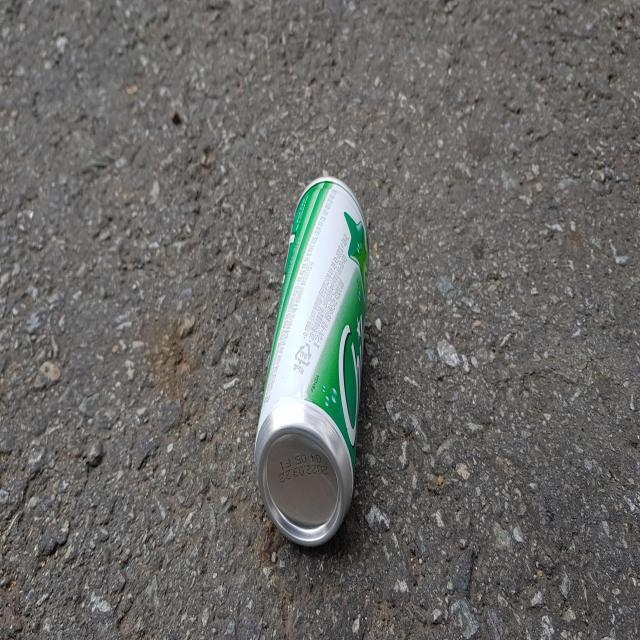can: (255, 175, 370, 545)
